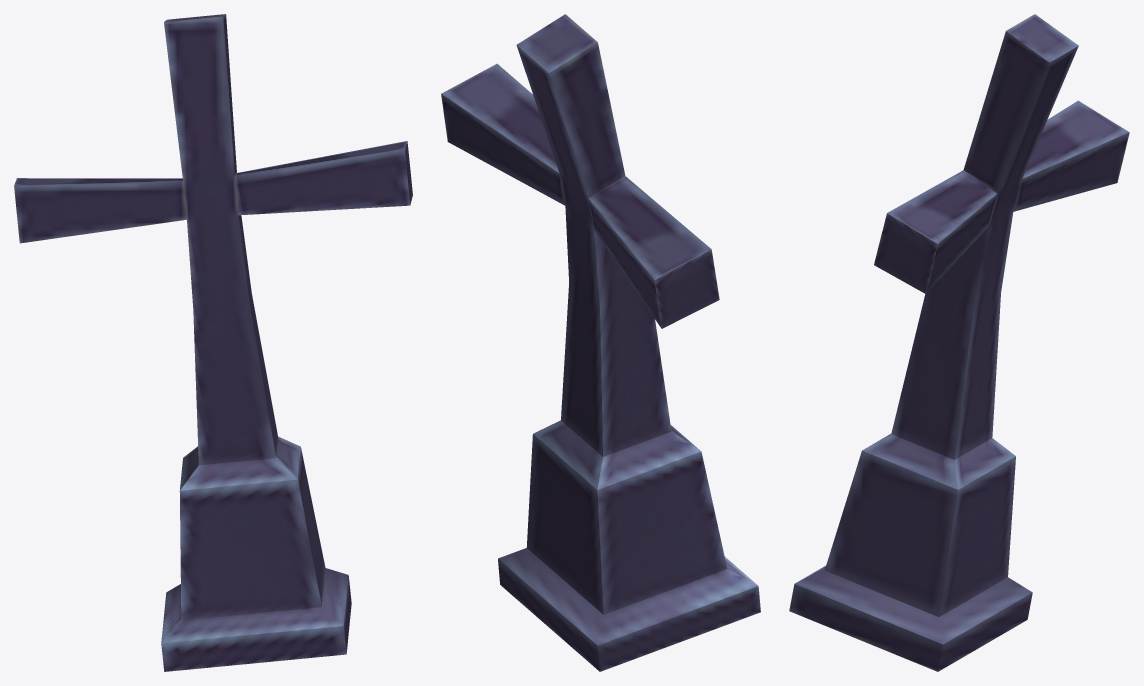
Rendered from Crypt_item_3.fbx.
The picture shows the model from 3 angles, left to right: view 1: azimuth 30°, elevation 25°; view 2: azimuth 150°, elevation 25°; view 3: azimuth 270°, elevation 25°; orthographic projection. The views are drawn at different scales.
Visible parts, largest first — view 1: Crypt_item_3; view 2: Crypt_item_3; view 3: Crypt_item_3.
Part boxes in pixels (<box>): Crypt_item_3: <box>14,14,412,671</box>; Crypt_item_3: <box>441,14,760,671</box>; Crypt_item_3: <box>789,14,1129,671</box>.
Size of the model in its own units: 1.46 by 2.58 by 1.3.
Materials: 1 (1 with a texture image).
